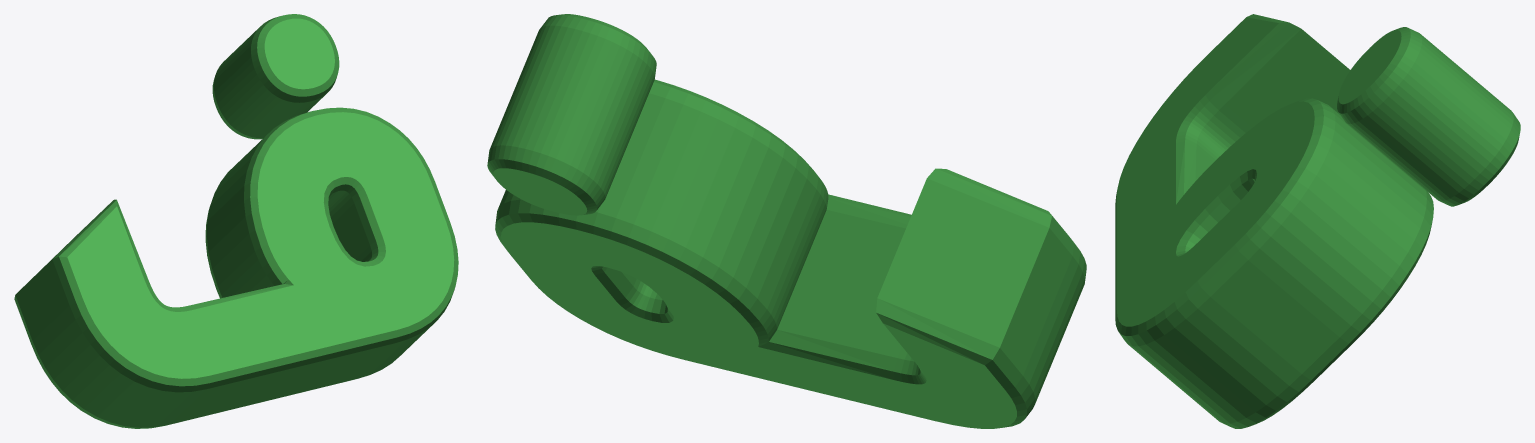
3 views of the same model, side by side, from view 1: azimuth 30°, elevation 25°; view 2: azimuth 150°, elevation 25°; view 3: azimuth 270°, elevation 25° (orthographic). The views are drawn at different scales.
Visible parts, largest first — view 1: letter; view 2: letter; view 3: letter.
Boxes of the visible parts, box(x1,y1,x2,y2) form: letter: box(14, 14, 458, 428); letter: box(487, 14, 1086, 428); letter: box(1115, 14, 1520, 428).
Bounding box in the file's own units: 1.2 × 0.9394 × 0.9077.
